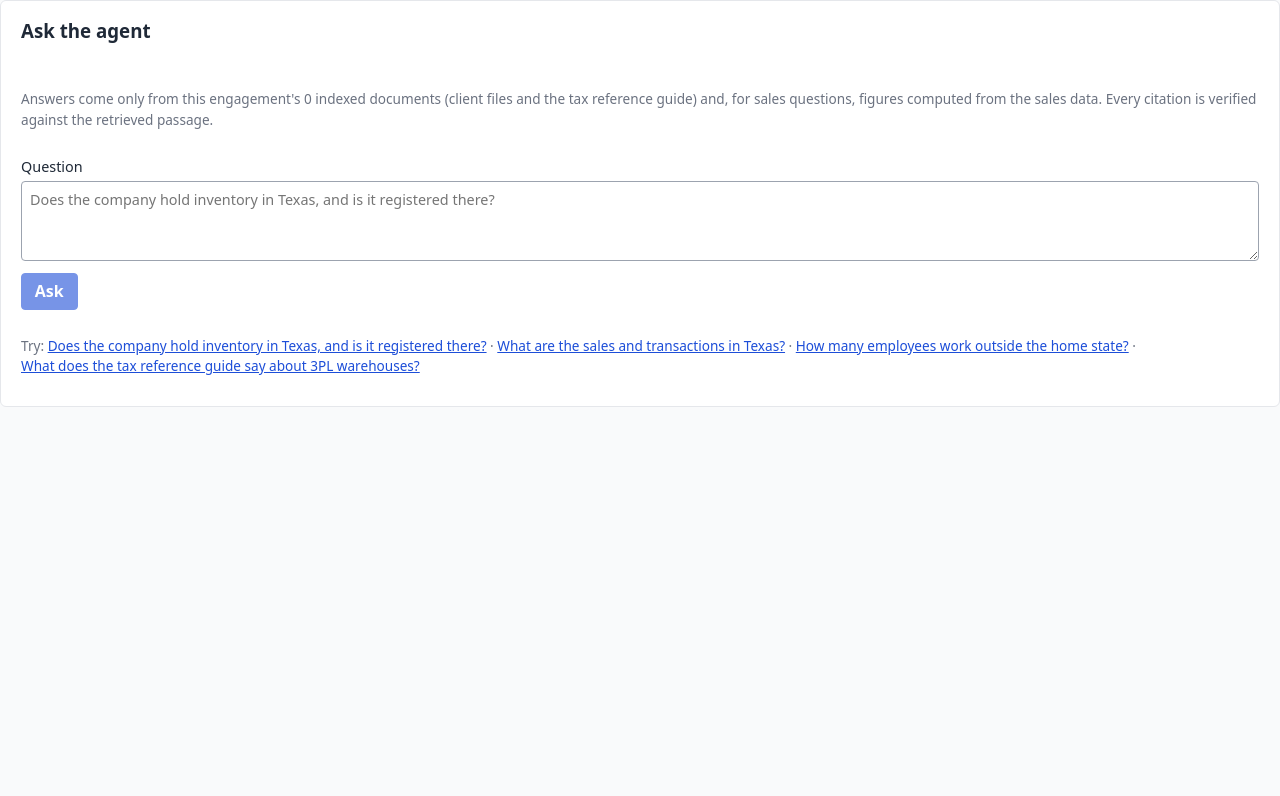
Test case: AskStep › flags answers the documents could not support
Type "Crypto policy?" into the text box labelled "Question" at [640, 221], box [21, 181, 1259, 261]
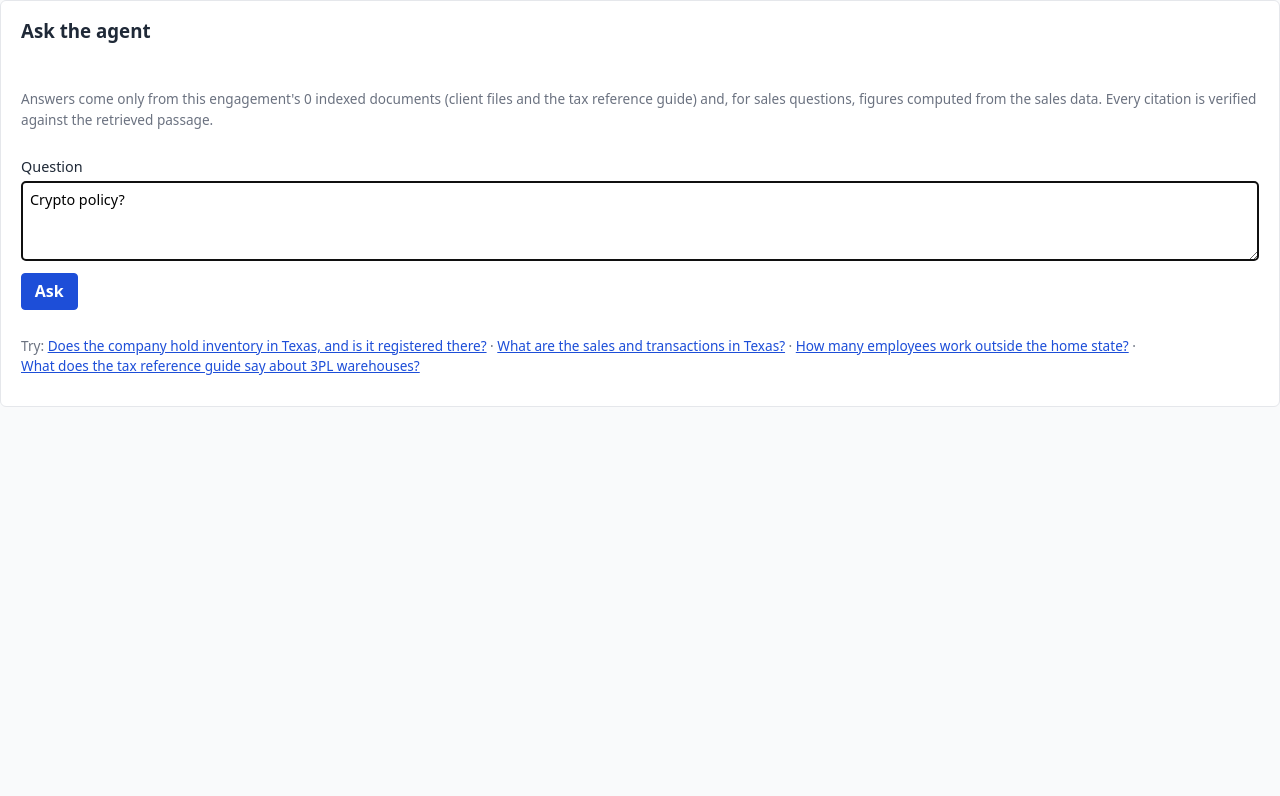
Click the button "Ask" at [49, 292], box [21, 273, 78, 310]
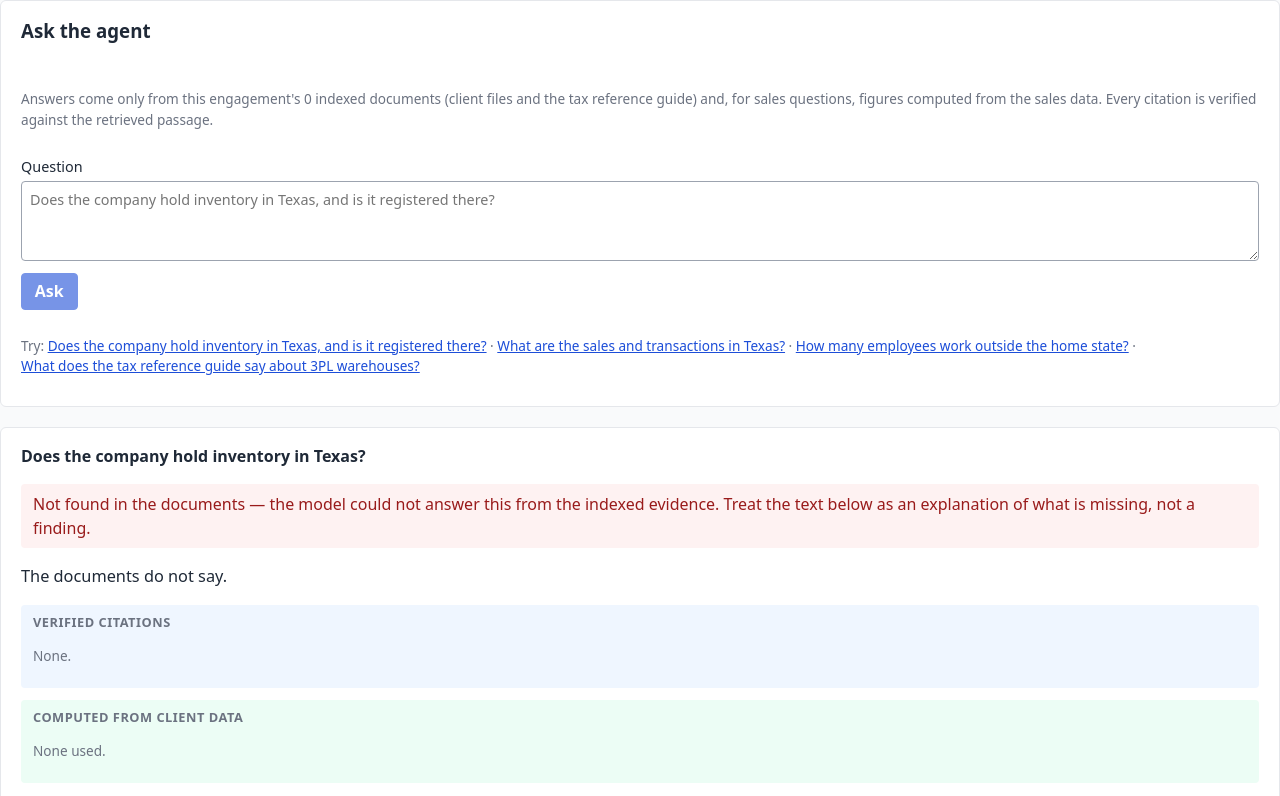
Expected: the text "Not found in the documents" is shown, [33, 493, 1195, 539]
